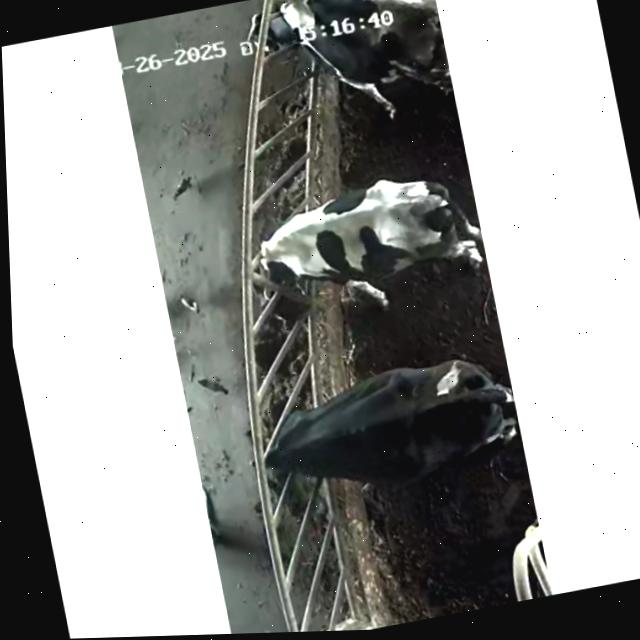eat: (209, 388, 366, 509), (188, 205, 353, 316), (203, 0, 374, 86)
